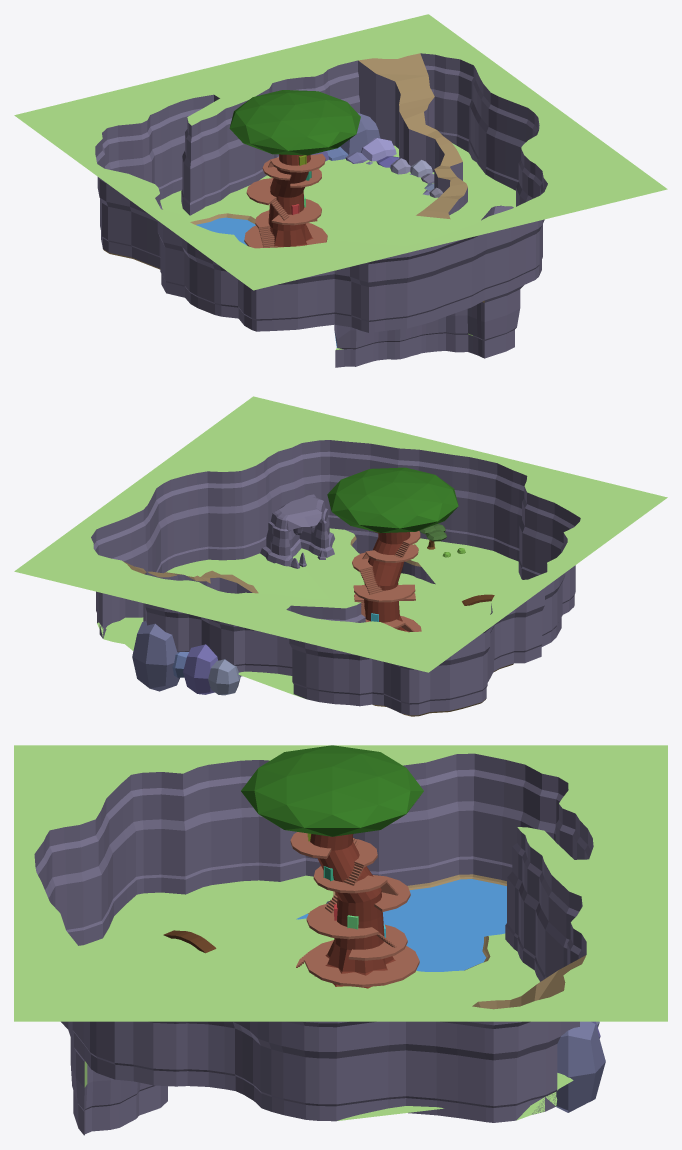
File: HollowMap.fbx
3 views of the same model, one above another, from view 1: azimuth 30°, elevation 25°; view 2: azimuth 150°, elevation 25°; view 3: azimuth 270°, elevation 25° (orthographic). The views are drawn at different scales.
Visible parts, largest first — view 1: Hollow, Leaves, Trunk, Cube, Floor0, Floor2, Cube.001, Floor3, Floor6; view 2: Hollow, Leaves, Cube, Trunk, Cube.014, Cube.015, Floor3, Floor5; view 3: Hollow, Leaves, Trunk, Cube, Floor0, Floor2, Floor1, Floor4, Floor3, Floor6.
Boxes of the visible parts, <box> form: Hollow: <box>14,14,667,367</box>; Leaves: <box>229,90,360,155</box>; Trunk: <box>268,154,313,247</box>; Cube: <box>340,112,380,154</box>; Floor0: <box>244,223,327,248</box>; Floor2: <box>271,199,321,225</box>; Cube.001: <box>361,138,396,161</box>; Floor3: <box>246,178,276,205</box>; Floor6: <box>270,153,325,172</box>; Hollow: <box>14,396,667,716</box>; Leaves: <box>327,467,458,533</box>; Cube: <box>132,621,179,691</box>; Trunk: <box>364,532,410,631</box>; Cube.014: <box>183,644,217,694</box>; Cube.015: <box>208,659,240,695</box>; Floor3: <box>353,584,415,602</box>; Floor5: <box>365,544,418,562</box>; Hollow: <box>14,745,667,1135</box>; Leaves: <box>241,745,423,836</box>; Trunk: <box>310,834,395,988</box>; Cube: <box>556,1021,605,1112</box>; Floor0: <box>305,940,419,987</box>; Floor2: <box>306,903,378,939</box>; Floor1: <box>348,924,407,960</box>; Floor4: <box>313,866,387,893</box>; Floor3: <box>373,875,410,911</box>; Floor6: <box>290,832,331,858</box>.
Size of the model in its own units: 26555 by 12693 by 26555.
